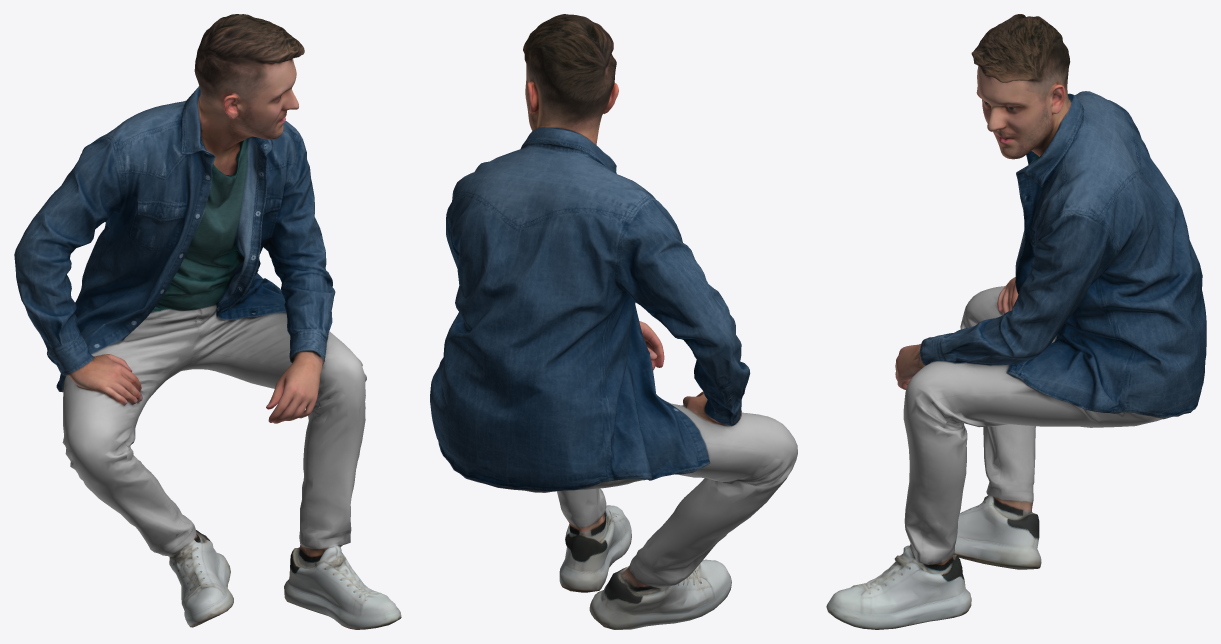
File: Humano_Posed_0341842-Man_03_LOD1.fbx
The picture shows the model from 3 angles, left to right: view 1: azimuth 30°, elevation 25°; view 2: azimuth 150°, elevation 25°; view 3: azimuth 270°, elevation 25°; orthographic projection. The views are drawn at different scales.
Visible parts, largest first — view 1: Humano_Posed_0341842-Man_03_LOD1; view 2: Humano_Posed_0341842-Man_03_LOD1; view 3: Humano_Posed_0341842-Man_03_LOD1.
Part boxes in pixels (x1,y1,x2,y2): Humano_Posed_0341842-Man_03_LOD1: (14,14,401,629); Humano_Posed_0341842-Man_03_LOD1: (430,14,797,629); Humano_Posed_0341842-Man_03_LOD1: (826,14,1206,629).
Size of the model in its own units: 69.46 by 134 by 80.14.
Materials: 1 (1 with a texture image).
